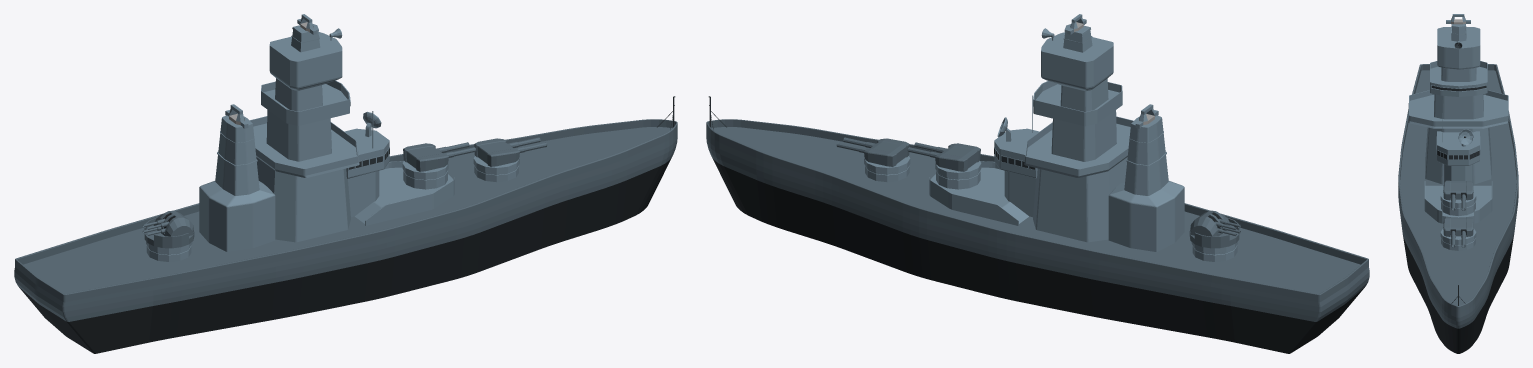
Rendered from battleship.glb.
The picture shows the model from 3 angles, left to right: view 1: azimuth 30°, elevation 25°; view 2: azimuth 150°, elevation 25°; view 3: azimuth 270°, elevation 25°; orthographic projection. The views are drawn at different scales.
Visible parts, largest first — view 1: Hull, SuperStructureFront, SuperStructureBack, UpperGround, Helm, AntiAirGun, MainGun2, MainGun, MaianGun2Base, MainGun1Base, AntiAirGunBase; view 2: Hull, SuperStructureFront, SuperStructureBack, UpperGround, Helm, AntiAirGun, MainGun2, MainGun, MaianGun2Base, MainGun1Base, AntiAirGunBase; view 3: Hull, SuperStructureFront, Helm, UpperGround, MainGun, MainGun2, MaianGun2Base, MainGun1Base, Aerial, MainGunBarrel, MainGunBarrel2.
Part boxes in pixels (left/top/right/bottom): Hull: left=14, top=96, right=677, bottom=353; SuperStructureFront: left=250, top=14, right=359, bottom=242; SuperStructureBack: left=199, top=104, right=275, bottom=251; UpperGround: left=355, top=161, right=454, bottom=225; Helm: left=344, top=111, right=389, bottom=217; AntiAirGun: left=144, top=210, right=194, bottom=248; MainGun2: left=403, top=143, right=448, bottom=171; MainGun: left=474, top=138, right=519, bottom=166; MaianGun2Base: left=402, top=161, right=448, bottom=189; MainGun1Base: left=473, top=156, right=519, bottom=182; AntiAirGunBase: left=146, top=241, right=192, bottom=261; Hull: left=706, top=96, right=1369, bottom=353; SuperStructureFront: left=1024, top=14, right=1133, bottom=242; SuperStructureBack: left=1108, top=104, right=1184, bottom=251; UpperGround: left=929, top=161, right=1028, bottom=225; Helm: left=994, top=95, right=1039, bottom=217; AntiAirGun: left=1189, top=210, right=1239, bottom=248; MainGun2: left=935, top=143, right=980, bottom=171; MainGun: left=864, top=138, right=909, bottom=166; MaianGun2Base: left=935, top=161, right=981, bottom=189; MainGun1Base: left=864, top=156, right=910, bottom=182; AntiAirGunBase: left=1191, top=241, right=1237, bottom=261; Hull: left=1398, top=64, right=1518, bottom=353; SuperStructureFront: left=1408, top=14, right=1508, bottom=184; Helm: left=1436, top=113, right=1480, bottom=182; UpperGround: left=1424, top=181, right=1492, bottom=223; MainGun: left=1443, top=217, right=1473, bottom=236; MainGun2: left=1443, top=180, right=1473, bottom=200; MaianGun2Base: left=1440, top=192, right=1476, bottom=215; MainGun1Base: left=1440, top=228, right=1476, bottom=250; Aerial: left=1458, top=129, right=1473, bottom=146; MainGunBarrel: left=1450, top=229, right=1466, bottom=247; MainGunBarrel2: left=1450, top=193, right=1466, bottom=210.
Bounding box in the file's own units: 99.5 × 40.07 × 20.84.
